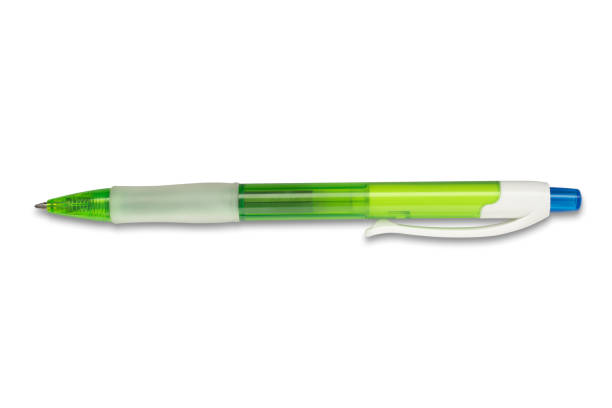pen: (31, 172, 596, 250)
